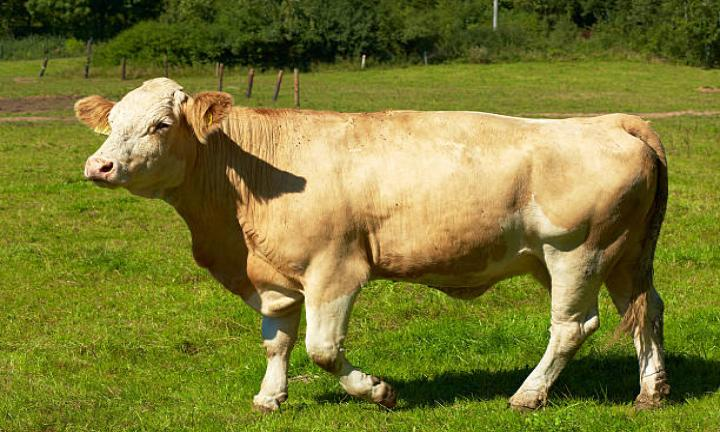Charolais: (76, 78, 667, 409)
